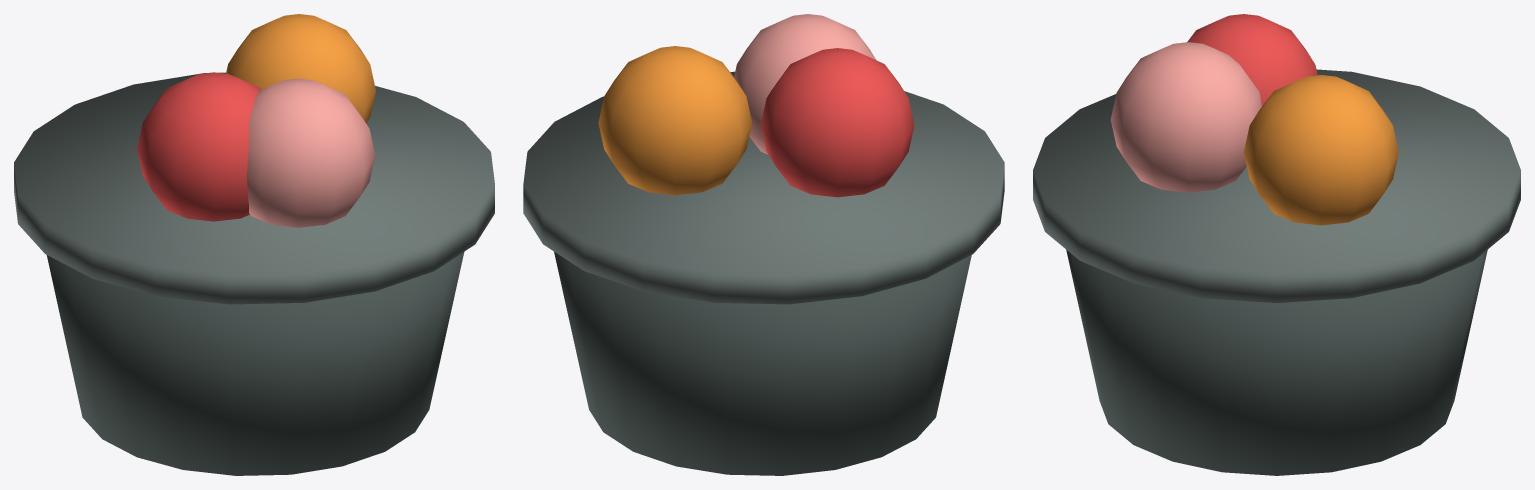
The model's file is festival-part-pot.glb.
3 views of the same model, side by side, from view 1: azimuth 30°, elevation 25°; view 2: azimuth 150°, elevation 25°; view 3: azimuth 270°, elevation 25° (orthographic).
Parts seen in each view (by area): view 1: part; view 2: part; view 3: part.
Boxes of the visible parts, box(x1,y1,x2,y2) form: part: box(14, 14, 494, 475); part: box(523, 14, 1004, 475); part: box(1033, 14, 1520, 475).
Bounding box in the file's own units: 0.44 × 0.35 × 0.44.
